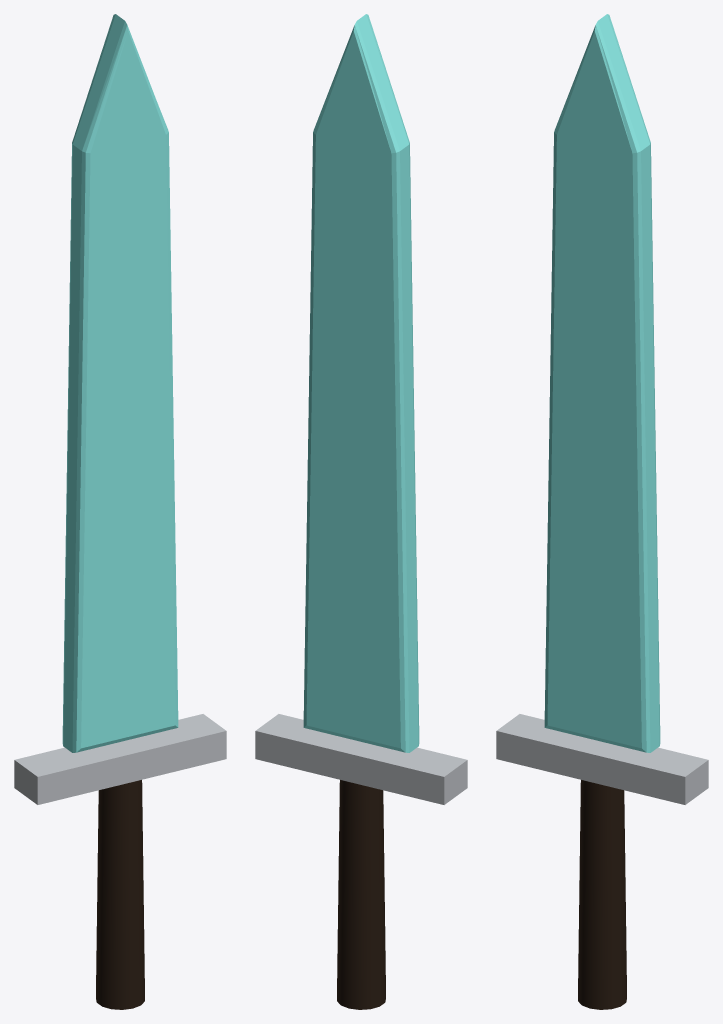
The model's file is diamond_sword.glb.
3 views of the same model, side by side, from view 1: azimuth 30°, elevation 25°; view 2: azimuth 150°, elevation 25°; view 3: azimuth 330°, elevation 25° (orthographic).
Visible parts, largest first — view 1: blade, grip, guard; view 2: blade, grip, guard; view 3: blade, grip, guard.
Boxes of the visible parts, <box> form: blade: <box>62,14,178,752</box>; grip: <box>96,780,144,1009</box>; guard: <box>14,714,226,804</box>; blade: <box>303,14,419,752</box>; grip: <box>337,780,385,1009</box>; guard: <box>255,714,467,804</box>; blade: <box>544,14,660,752</box>; grip: <box>578,780,626,1009</box>; guard: <box>496,714,708,804</box>.
Bounding box in the file's own units: 0.14 × 0.6957 × 0.032.
